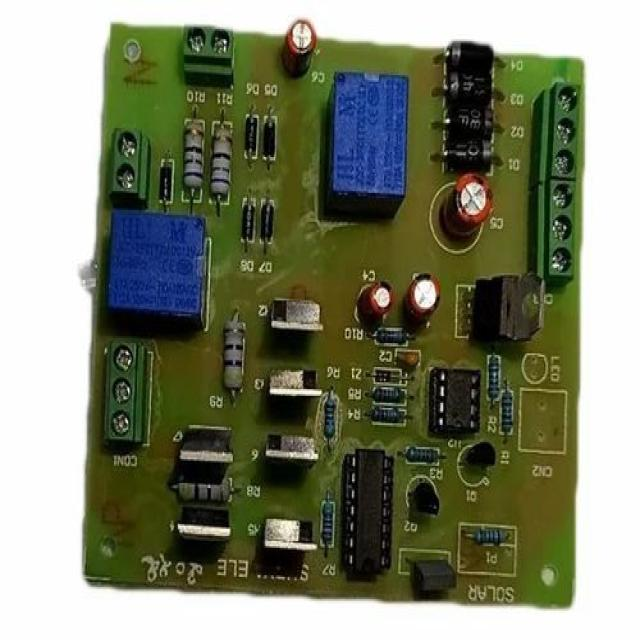pcb: (79, 17, 585, 608), (104, 207, 211, 331), (526, 78, 581, 286), (100, 336, 154, 452), (108, 126, 150, 208), (182, 24, 234, 87)
